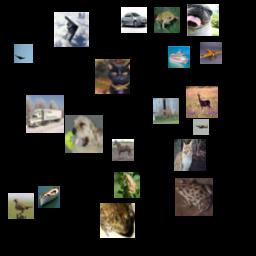airplane: (54, 12, 89, 47), (200, 42, 222, 64), (14, 44, 33, 63), (193, 119, 209, 135)
automobile: (121, 7, 147, 33)
bird: (8, 193, 34, 219)
cat: (95, 59, 130, 94), (174, 139, 206, 171)
deer: (186, 86, 218, 118), (153, 98, 179, 124)
dog: (65, 115, 103, 153), (187, 4, 219, 36)
frog: (175, 178, 213, 216), (100, 203, 135, 238), (114, 172, 140, 198), (154, 7, 180, 33)
ship: (38, 186, 60, 208), (168, 46, 190, 68)
truck: (26, 95, 64, 133)
